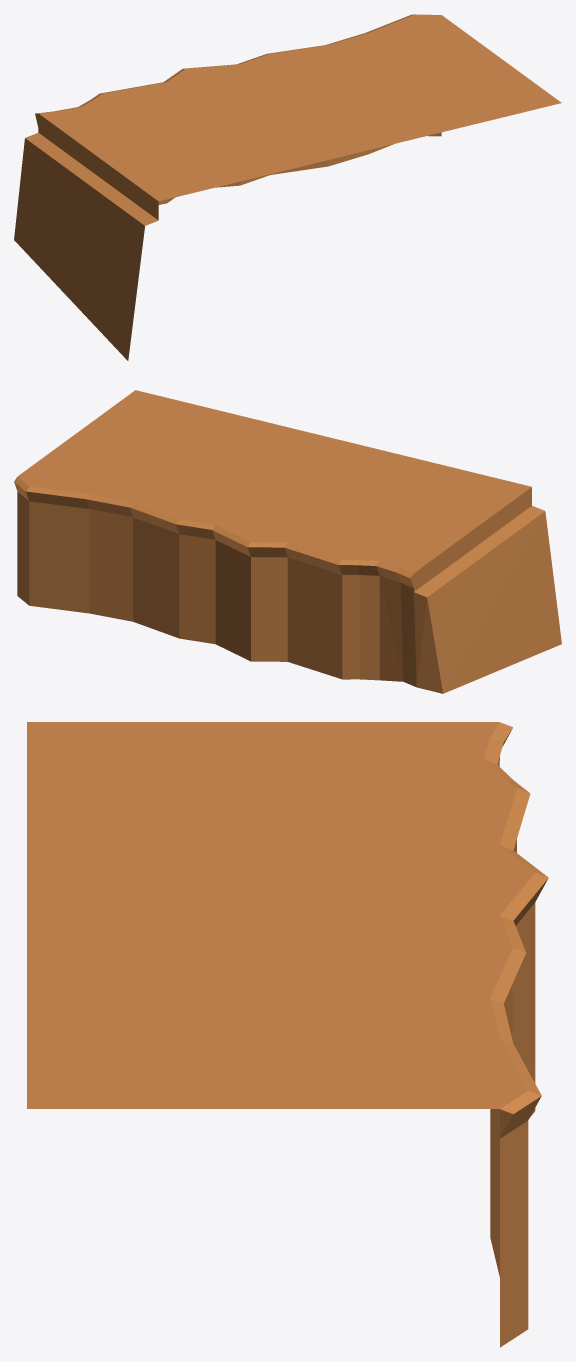
Rendered from Collider_ground4.fbx.
3 views of the same model, one above another, from view 1: azimuth 30°, elevation 25°; view 2: azimuth 150°, elevation 25°; view 3: azimuth 270°, elevation 25° (orthographic). The views are drawn at different scales.
Parts seen in each view (by area): view 1: 平面.049; view 2: 平面.049; view 3: 平面.049.
Part boxes in pixels (left/top/right/bottom): 平面.049: left=14, top=14, right=561, bottom=360; 平面.049: left=14, top=390, right=561, bottom=693; 平面.049: left=27, top=722, right=548, bottom=1347.
Bounding box in the file's own units: 2649 × 1403 × 891.
